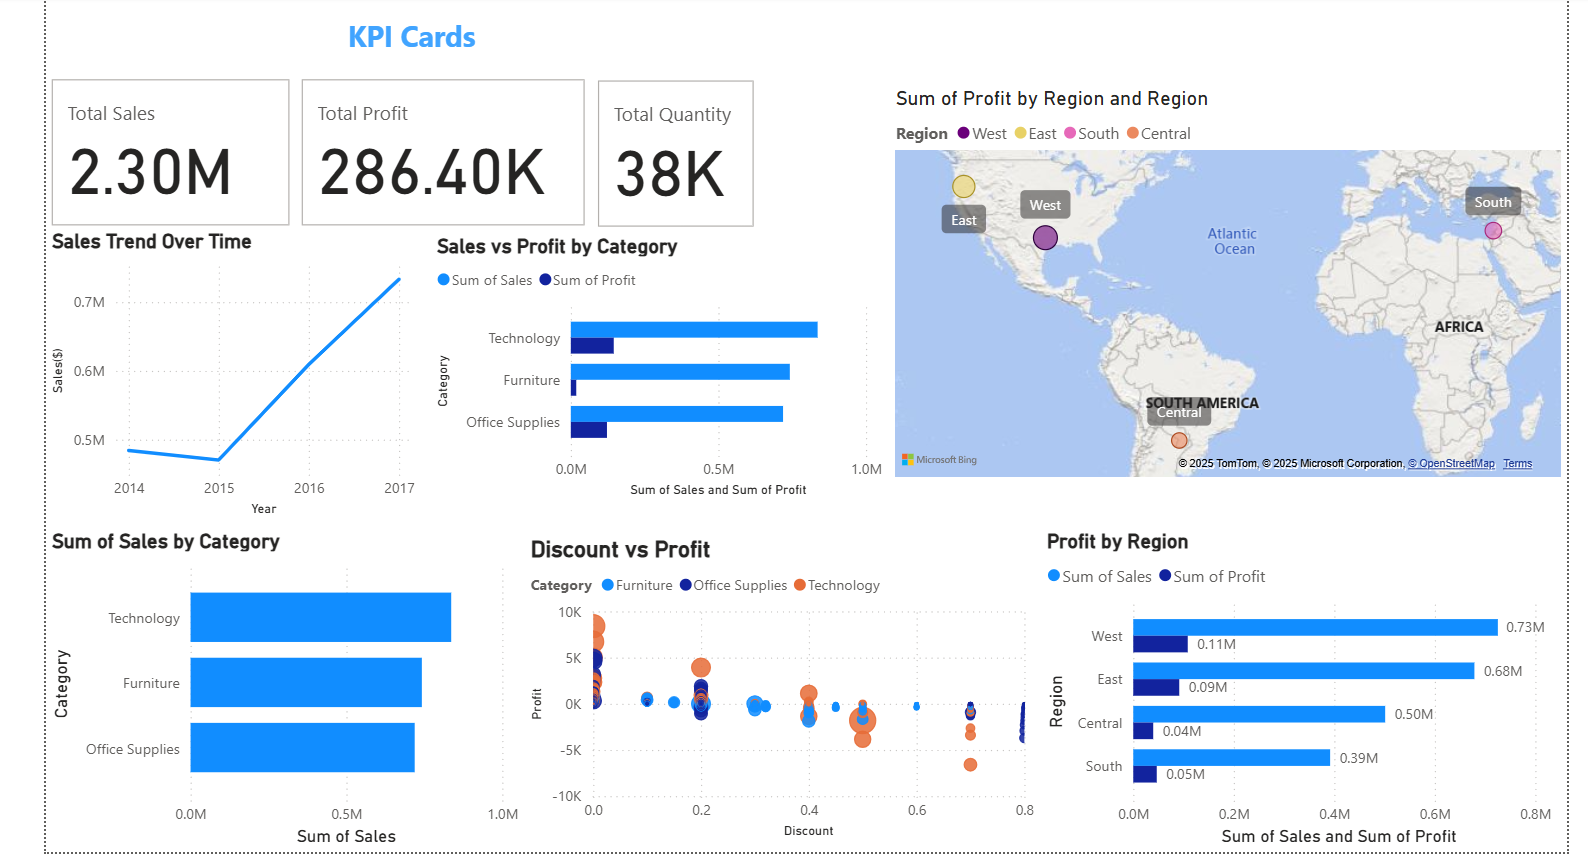

What the dashboard file says about the page in this screenshot:
{"tool":"powerbi","page":{"name":"Page 1","canvas":[1280,720],"ordinal":0},"visuals":[{"type":"cardVisual","fields":{"Data":["Sum(Sample - Superstore.Sales)"]},"box":[0,65.1,210.5,133.7],"z":0},{"type":"cardVisual","fields":{"Data":["Sum(Sample - Superstore.Profit)"]},"box":[210.5,65.1,248.8,133.7],"z":1000},{"type":"cardVisual","fields":{"Data":["Sum(Sample - Superstore.Quantity)"]},"box":[459.3,66.3,141.9,133.7],"z":2000},{"type":"lineChart","title":"Sales Trend Over Time","fields":{"Category":["Sample - Superstore.Order Date.Variation.Date Hierarchy.Year"],"Y":["Sum(Sample - Superstore.Sales)"]},"box":[0,195.3,315.1,246.5],"z":3000},{"type":"barChart","fields":{"Category":["Sample - Superstore.Category"],"Y":["Sum(Sample - Superstore.Sales)"]},"box":[0,447.8,403,272.2],"z":4000},{"type":"textbox","box":[37.6,12.5,539.1,52.8],"z":5000},{"type":"clusteredBarChart","title":"Sales vs Profit by Category","fields":{"Category":["Sample - Superstore.Category"],"Y":["Sum(Sample - Superstore.Sales)","Sum(Sample - Superstore.Profit)"]},"box":[324.2,199.7,385.1,226.6],"z":6000},{"type":"map","fields":{"Category":["Sample - Superstore.Region"],"Size":["Sum(Sample - Superstore.Profit)"],"Series":["Sample - Superstore.Region"]},"box":[709.3,75.2,570.4,334],"z":7000},{"type":"clusteredBarChart","title":"Profit by Region","fields":{"Y":["Sum(Sample - Superstore.Sales)","Sum(Sample - Superstore.Profit)"],"Category":["Sample - Superstore.Region"]},"box":[836.4,447.8,443.3,272.2],"z":8000},{"type":"scatterChart","title":"Discount vs Profit","fields":{"X":["Sample - Superstore.Discount"],"Y":["Sample - Superstore.Profit"],"Size":["Sum(Sample - Superstore.Sales)"],"Series":["Sample - Superstore.Category"]},"box":[403,454,433.4,258.8],"z":9000}]}

Visuals, with their boxes on the page's 1280x720 design canvas (x1, y1, x2, y2). These are canvas units, not pixel positions in the 1588x862 screenshot, which may show the page scaled, cropped or inside an application window:
cardVisual - Sum(Sample - Superstore.Sales): 0/65/210/199
cardVisual - Sum(Sample - Superstore.Profit): 210/65/459/199
cardVisual - Sum(Sample - Superstore.Quantity): 459/66/601/200
"Sales Trend Over Time" lineChart: 0/195/315/442
barChart - Sample - Superstore.Category x Sum(Sample - Superstore.Sales): 0/448/403/720
textbox: 38/12/577/65
"Sales vs Profit by Category" clusteredBarChart: 324/200/709/426
map - Sample - Superstore.Region x Sum(Sample - Superstore.Profit): 709/75/1280/409
"Profit by Region" clusteredBarChart: 836/448/1280/720
"Discount vs Profit" scatterChart: 403/454/836/713
